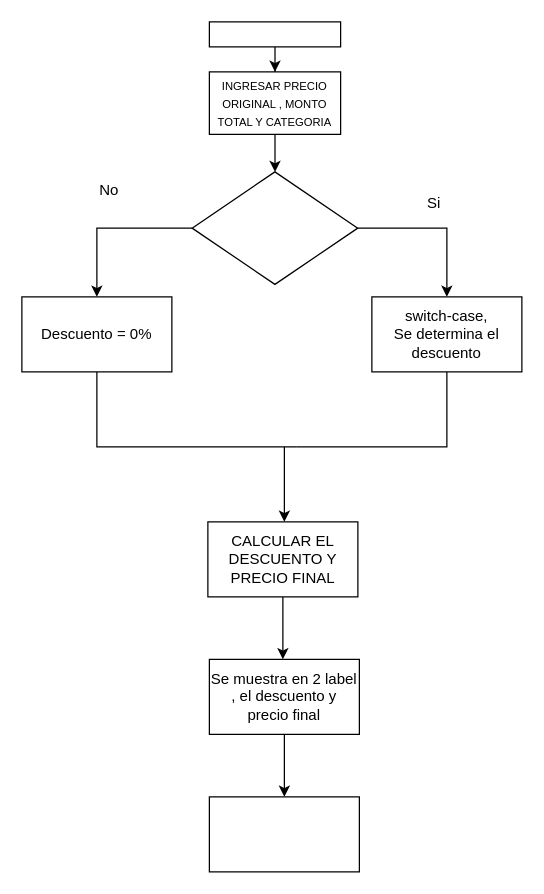
This 544x894 diagram has some shape labels left out. Here are the shapes that lost their labels. From the top down, the centre of each, then its label:
(x=274, y=34): INICIO
(x=274, y=227): El monto supera el limite de la categoria?
